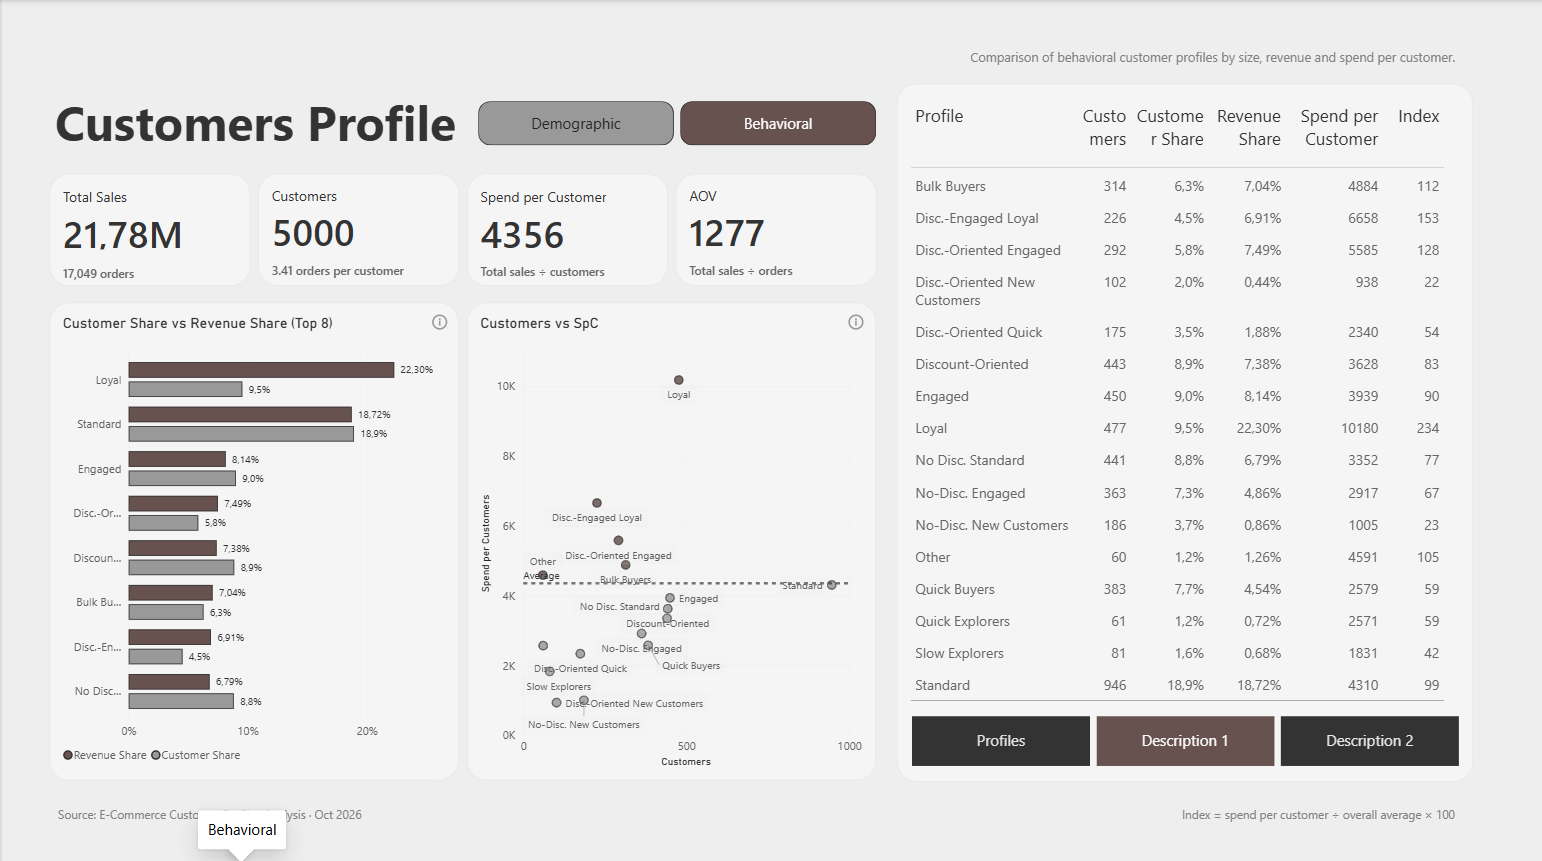

This screenshot's page, from the dashboard's own definition file:
{"tool":"powerbi","page":{"name":"Behavioral","canvas":[1920,1080],"ordinal":1},"visuals":[{"type":"tableEx","title":"Comp","fields":{"Values":["melumat.Behavioral_Profile","_Measures.Müştəri Sayı","_Measures.Customer Share","_Measures.Gəlir Payı %","_Measures.Müştəri Başına Məbləğ","_Measures.Index"]},"box":[1116,104,718,870],"z":0},{"type":"cardVisual","fields":{"Data":["_Measures.Ümumi Satış"]},"box":[60,217,250,140],"z":1000},{"type":"cardVisual","fields":{"Data":["_Measures.Müştəri Sayı"]},"box":[320,217,250,140],"z":2000},{"type":"cardVisual","fields":{"Data":["_Measures.Müştəri Başına Məbləğ"]},"box":[580,217,250,140],"z":3000},{"type":"cardVisual","fields":{"Data":["_Measures.AOV"]},"box":[840,217,250,140],"z":4000},{"type":"scatterChart","title":"Customers vs SpC","fields":{"Category":["melumat.Behavioral_Profile"],"X":["_Measures.Müştəri Sayı"],"Y":["_Measures.Müştəri Başına Məbləğ"]},"box":[580,378,510,596],"z":5000},{"type":"clusteredBarChart","title":"Customer Share vs Revenue Share   (Top 8)","fields":{"Category":["melumat.Behavioral_Profile"],"Y":["_Measures.Gəlir Payı %","_Measures.Customer Share"]},"box":[60,378,510,596],"z":6000},{"type":"shape","box":[60,104,612,92],"z":7000},{"type":"pageNavigator","box":[594,126,496,55],"z":8000},{"type":"actionButton","box":[520,378,50,48],"z":9000},{"type":"actionButton","box":[1040,378,50,48],"z":10000},{"type":"bookmarkNavigator","box":[1135,892.5,682.5,62.5],"z":13000},{"type":"shape","box":[65,985,672.5,60],"z":14000},{"type":"shape","box":[1145,985,672,60],"z":15000},{"type":"shape","box":[1145,40,672.5,60],"z":16000}]}

Visuals, with their boxes in screenshot pixels (x1, y1, x2, y2), scaled from the page's 1920x1080 canvas onto the 1542x861 screenshot:
"Comp" tableEx: detection(896, 83, 1473, 776)
cardVisual - _Measures.Ümumi Satış: detection(48, 173, 249, 285)
cardVisual - _Measures.Müştəri Sayı: detection(257, 173, 458, 285)
cardVisual - _Measures.Müştəri Başına Məbləğ: detection(466, 173, 667, 285)
cardVisual - _Measures.AOV: detection(675, 173, 875, 285)
"Customers vs SpC" scatterChart: detection(466, 301, 875, 776)
"Customer Share vs Revenue Share   (Top 8)" clusteredBarChart: detection(48, 301, 458, 776)
shape: detection(48, 83, 540, 156)
pageNavigator: detection(477, 100, 875, 144)
actionButton: detection(418, 301, 458, 340)
actionButton: detection(835, 301, 875, 340)
bookmarkNavigator: detection(912, 712, 1460, 761)
shape: detection(52, 785, 592, 833)
shape: detection(920, 785, 1459, 833)
shape: detection(920, 32, 1460, 80)
